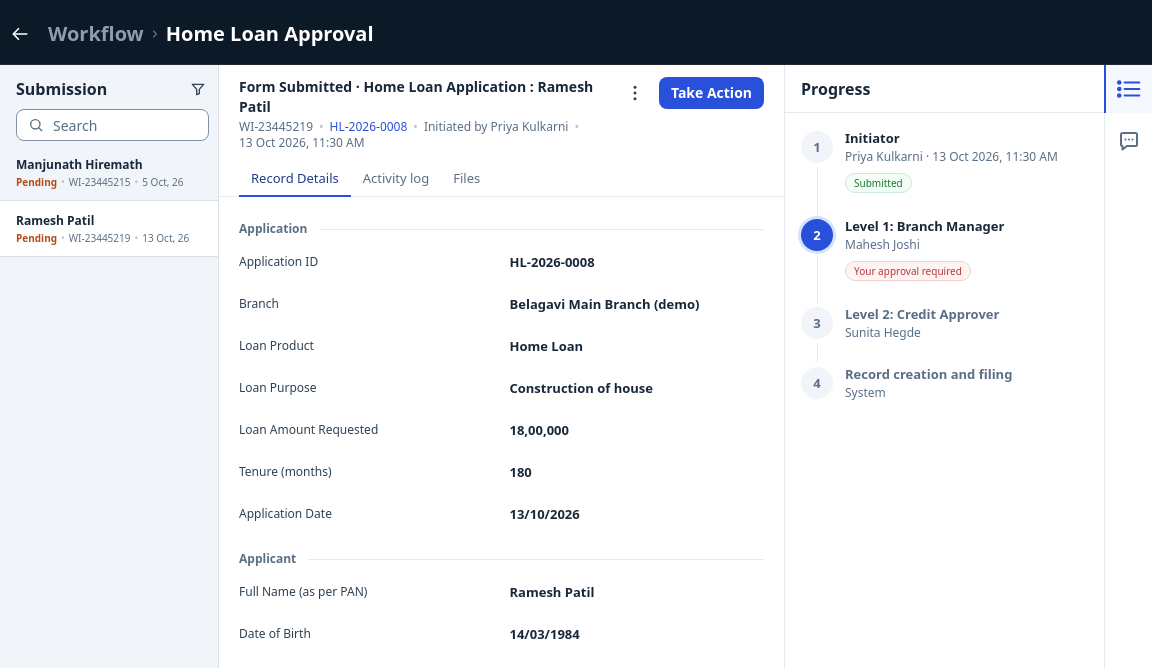
Test: a rejection at Level 2 › is also what a rejection at Level 1 does
Click the button "Take Action" at (711, 93), box [659,77,764,109]
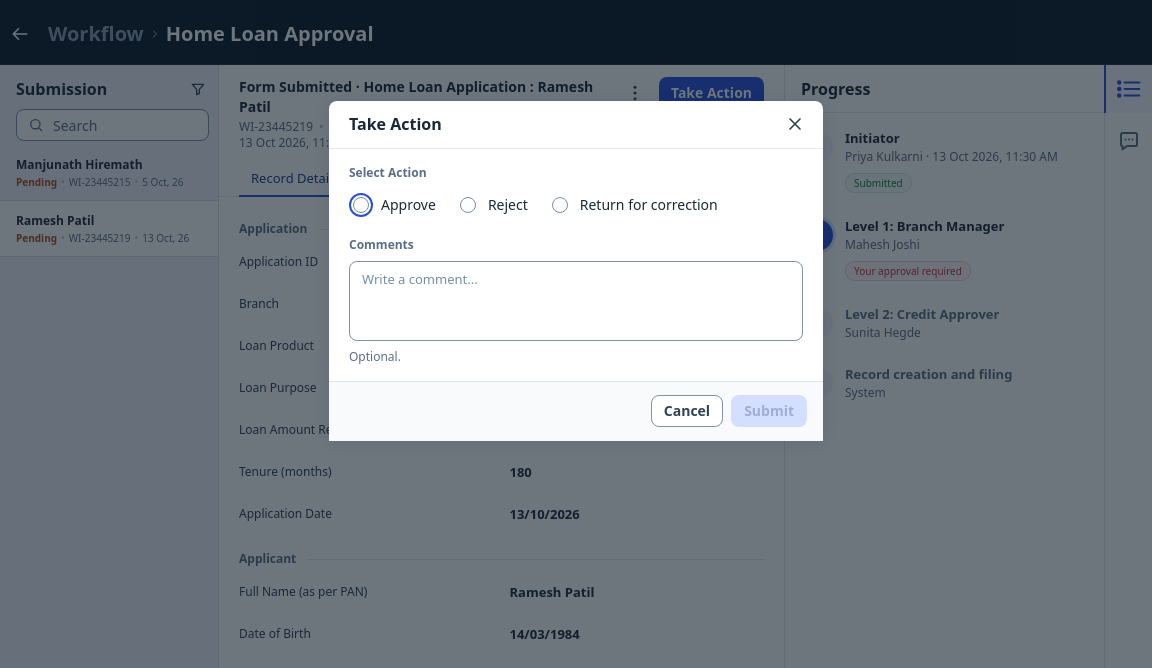
Click the radio button labelled "Reject" at (468, 205), box [460,197,476,213]
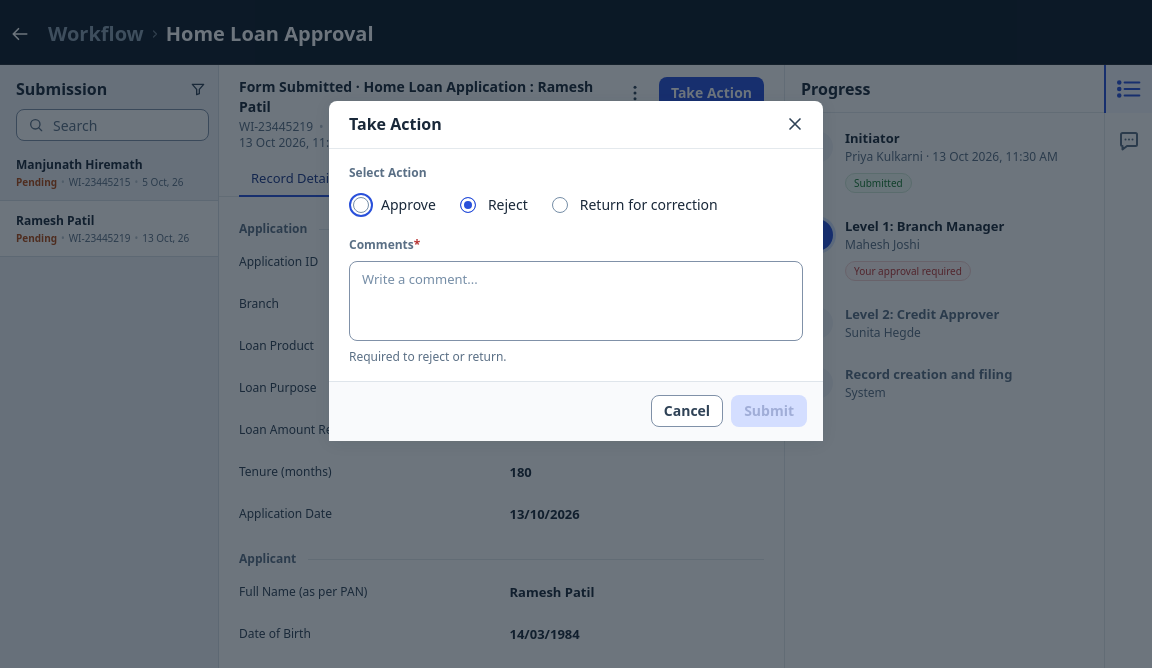
Type "KYC does not match." into the text box labelled "Comments*" at (576, 301), box [349,261,803,341]
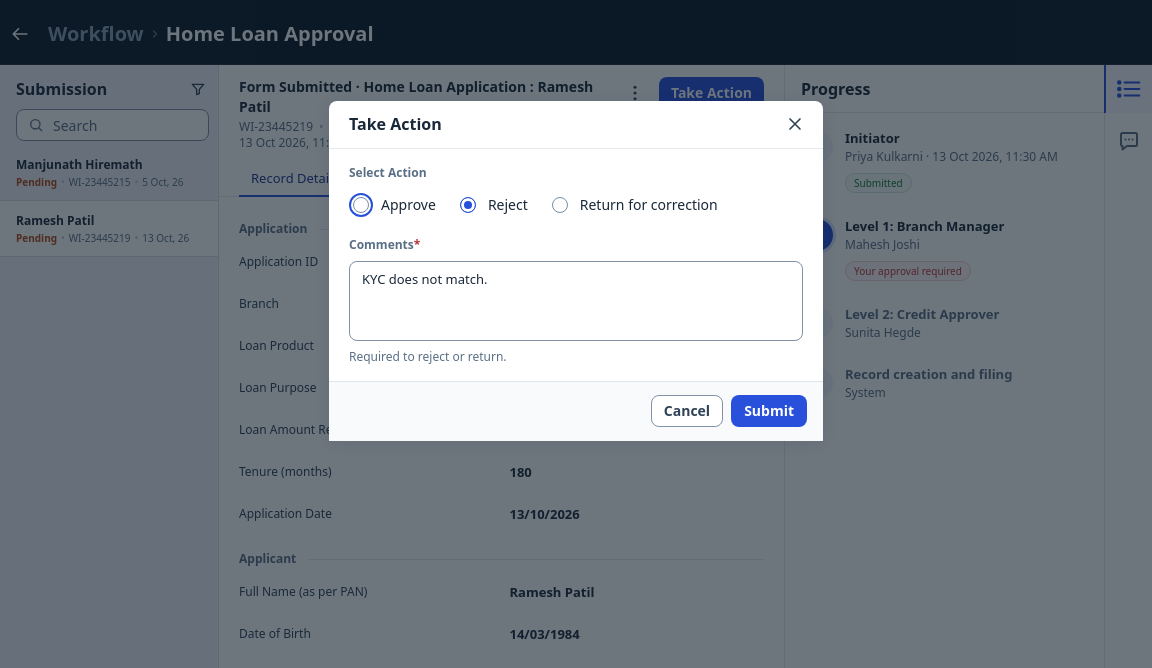
Click the button "Submit" at (769, 411), box [731,395,807,427]
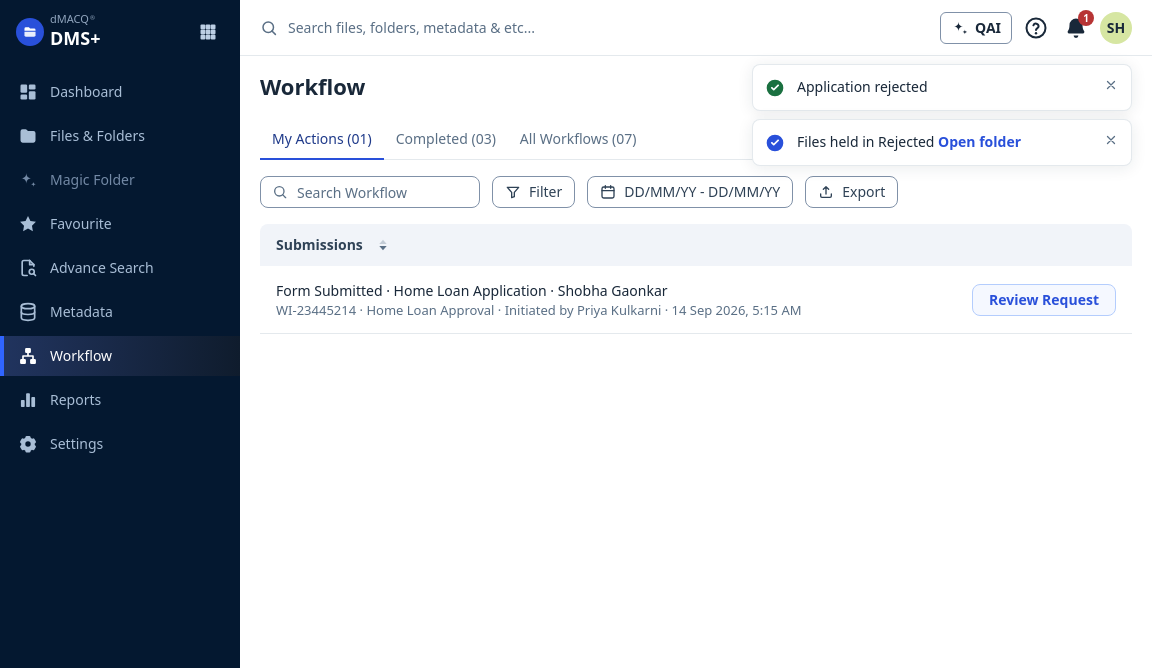
Now the text "Application rejected" is shown, box [797,77,928,96]
Now the tab "My Actions (01)" is shown, box [260,120,384,160]
